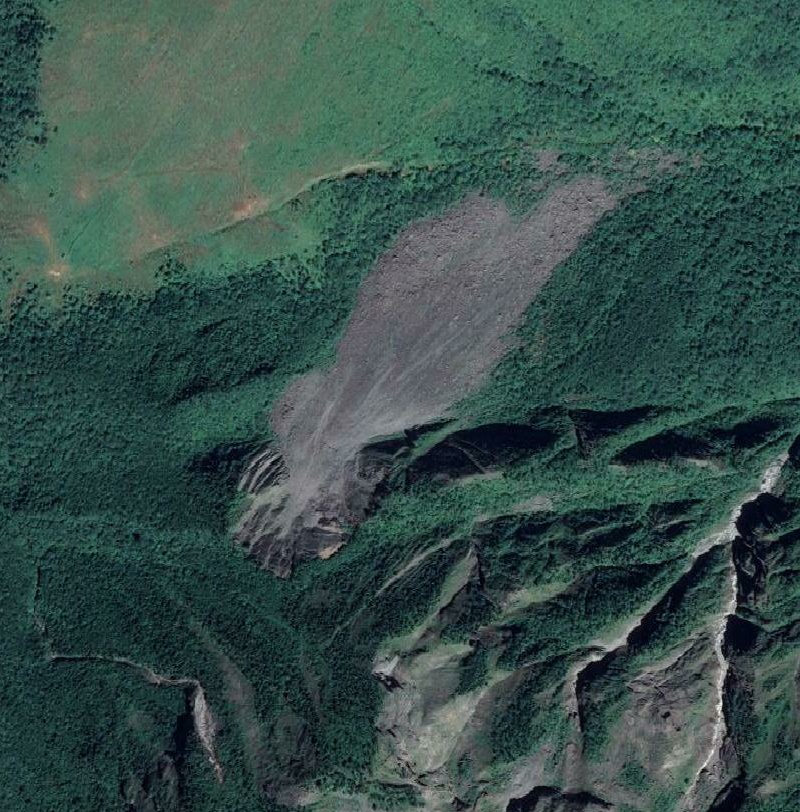slope: (234, 168, 633, 576)
